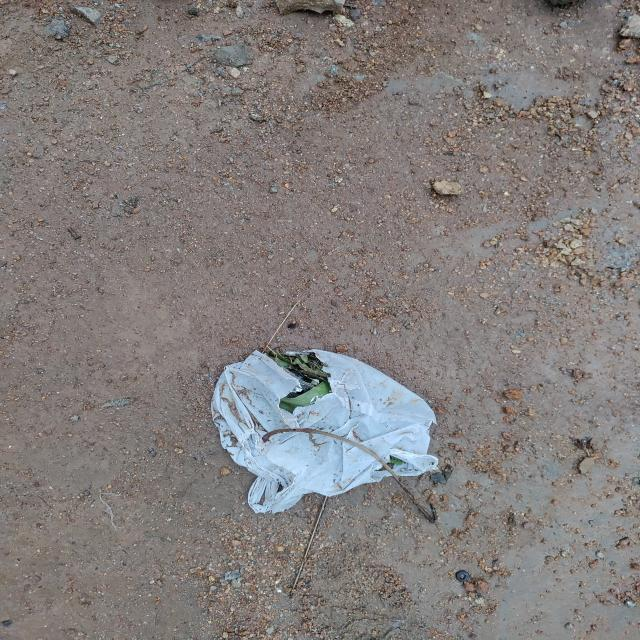plastic: (211, 348, 440, 514)
